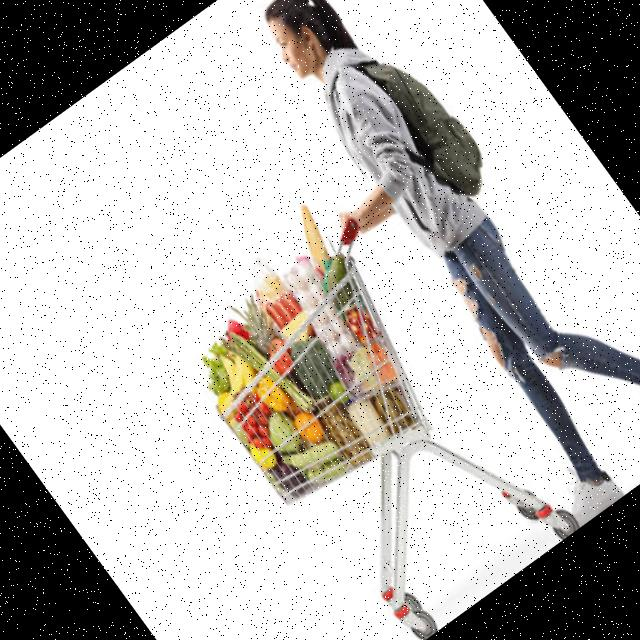Person: (211, 0, 640, 535)
